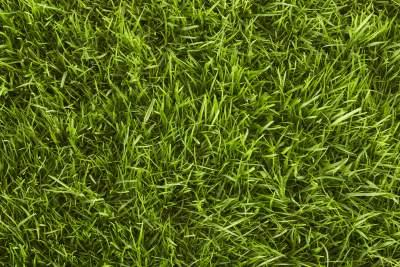grass: (1, 1, 400, 267)
